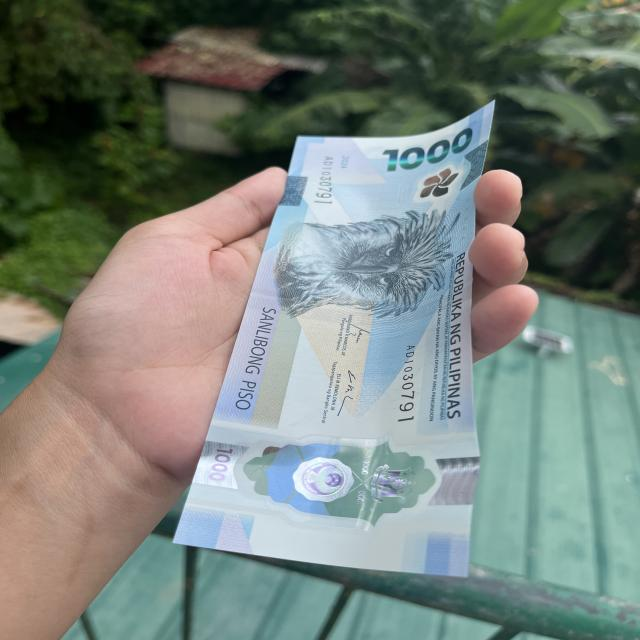clear_window: (181, 417, 476, 541)
eagle: (281, 206, 446, 320)
sampaguita: (388, 164, 460, 204)
serial_number: (388, 332, 423, 430)
value: (381, 124, 475, 175)
